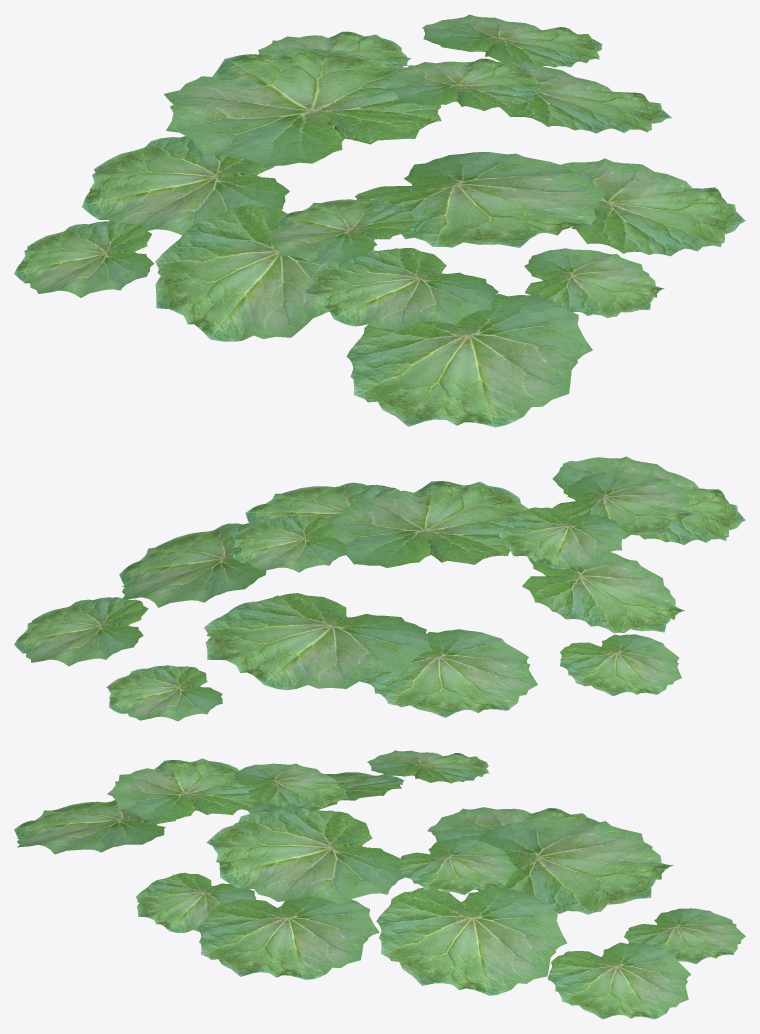
Rendered from Leopard2.fbx.
3 renders of one model, top to bottom at view 1: azimuth 30°, elevation 25°; view 2: azimuth 150°, elevation 25°; view 3: azimuth 270°, elevation 25°, orthographic. The views are drawn at different scales.
Visible parts, largest first — view 1: Leopard2; view 2: Leopard2; view 3: Leopard2.
Boxes of the visible parts, x1,y1,x2,y2 form: Leopard2: (14, 14, 745, 427); Leopard2: (14, 456, 745, 721); Leopard2: (14, 750, 745, 1019).
Size of the model in its own units: 119 by 16.1 by 139.
